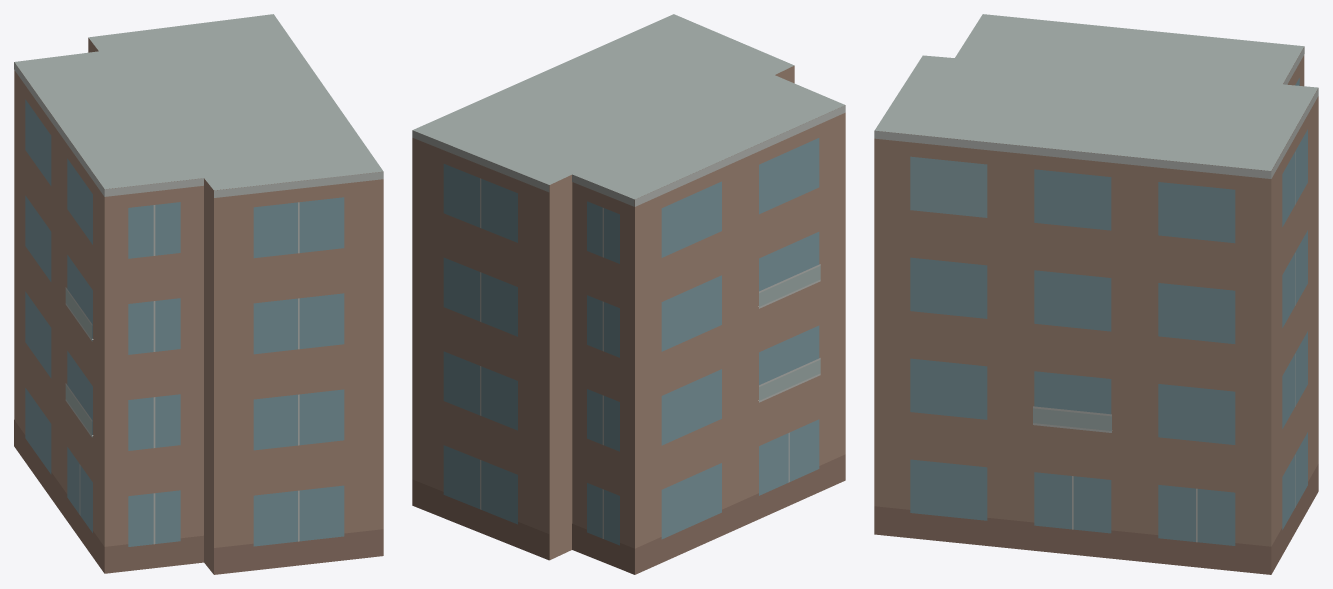
File: survey-upis-32803011.glb
3 views of the same model, side by side, from view 1: azimuth 30°, elevation 25°; view 2: azimuth 150°, elevation 25°; view 3: azimuth 270°, elevation 25° (orthographic). The views are drawn at different scales.
Parts seen in each view (by area): view 1: survey-upis-32803011.tmp; view 2: survey-upis-32803011.tmp; view 3: survey-upis-32803011.tmp.
Part boxes in pixels (<box>): survey-upis-32803011.tmp: <box>14,14,383,574</box>; survey-upis-32803011.tmp: <box>412,14,845,574</box>; survey-upis-32803011.tmp: <box>874,14,1318,574</box>.
Size of the model in its own units: 10.23 by 12.25 by 12.22.
